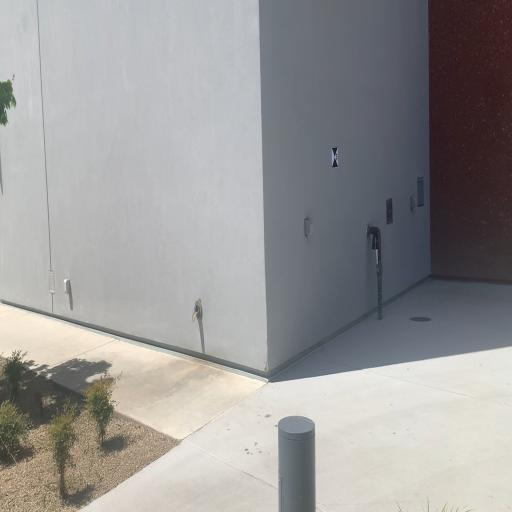target5: (331, 146, 339, 168)
